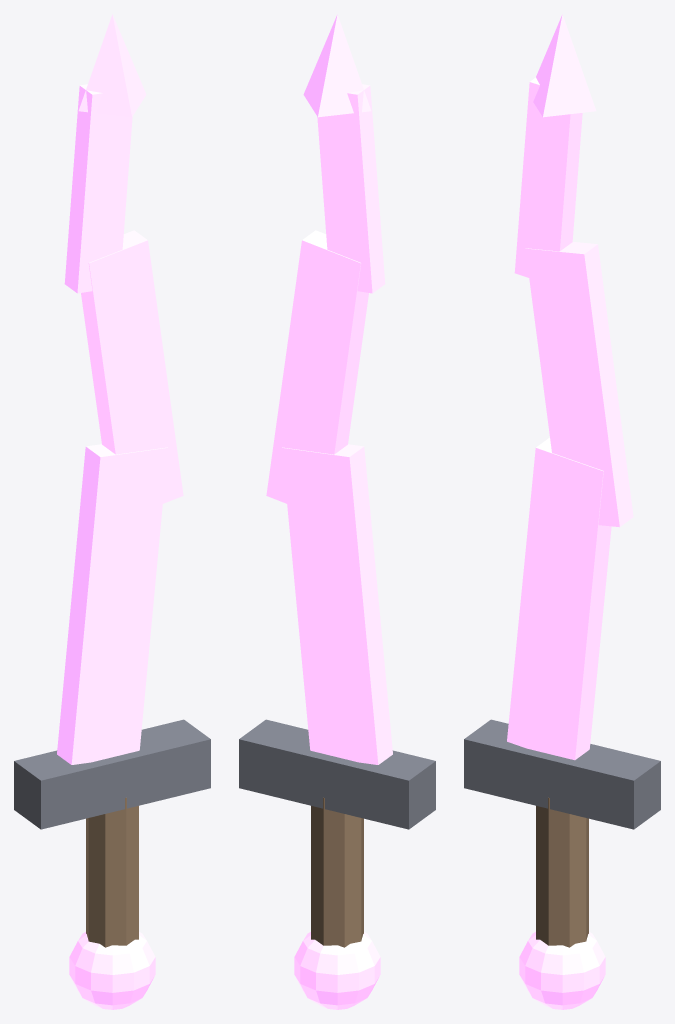
The model's file is sword_fractured.glb.
3 renders of one model, left to right at view 1: azimuth 30°, elevation 25°; view 2: azimuth 150°, elevation 25°; view 3: azimuth 330°, elevation 25°, orthographic.
Parts seen in each view (by area): view 1: sword_fractured_03, sword_fractured_04, sword_fractured_02, sword_fractured_05, sword_fractured_00, sword_fractured_01, sword_fractured_06; view 2: sword_fractured_03, sword_fractured_04, sword_fractured_02, sword_fractured_05, sword_fractured_00, sword_fractured_01, sword_fractured_06; view 3: sword_fractured_03, sword_fractured_04, sword_fractured_02, sword_fractured_05, sword_fractured_00, sword_fractured_01, sword_fractured_06.
Part boxes in pixels (left/top/right/bottom): sword_fractured_03: left=57, top=444, right=167, bottom=764; sword_fractured_04: left=81, top=230, right=183, bottom=503; sword_fractured_02: left=14, top=719, right=210, bottom=829; sword_fractured_05: left=64, top=84, right=132, bottom=293; sword_fractured_00: left=86, top=797, right=138, bottom=947; sword_fractured_01: left=69, top=932, right=155, bottom=1009; sword_fractured_06: left=78, top=14, right=146, bottom=117; sword_fractured_03: left=282, top=444, right=392, bottom=764; sword_fractured_04: left=266, top=230, right=368, bottom=503; sword_fractured_02: left=239, top=719, right=435, bottom=829; sword_fractured_05: left=317, top=84, right=385, bottom=293; sword_fractured_00: left=311, top=797, right=363, bottom=947; sword_fractured_01: left=294, top=932, right=380, bottom=1009; sword_fractured_06: left=303, top=14, right=371, bottom=117; sword_fractured_03: left=507, top=437, right=611, bottom=760; sword_fractured_04: left=525, top=242, right=633, bottom=527; sword_fractured_02: left=464, top=719, right=660, bottom=829; sword_fractured_05: left=514, top=77, right=582, bottom=277; sword_fractured_00: left=536, top=797, right=588, bottom=947; sword_fractured_01: left=519, top=932, right=605, bottom=1009; sword_fractured_06: left=533, top=14, right=596, bottom=117.
Bounding box in the file's own units: 0.2 × 1.11 × 0.0877.
